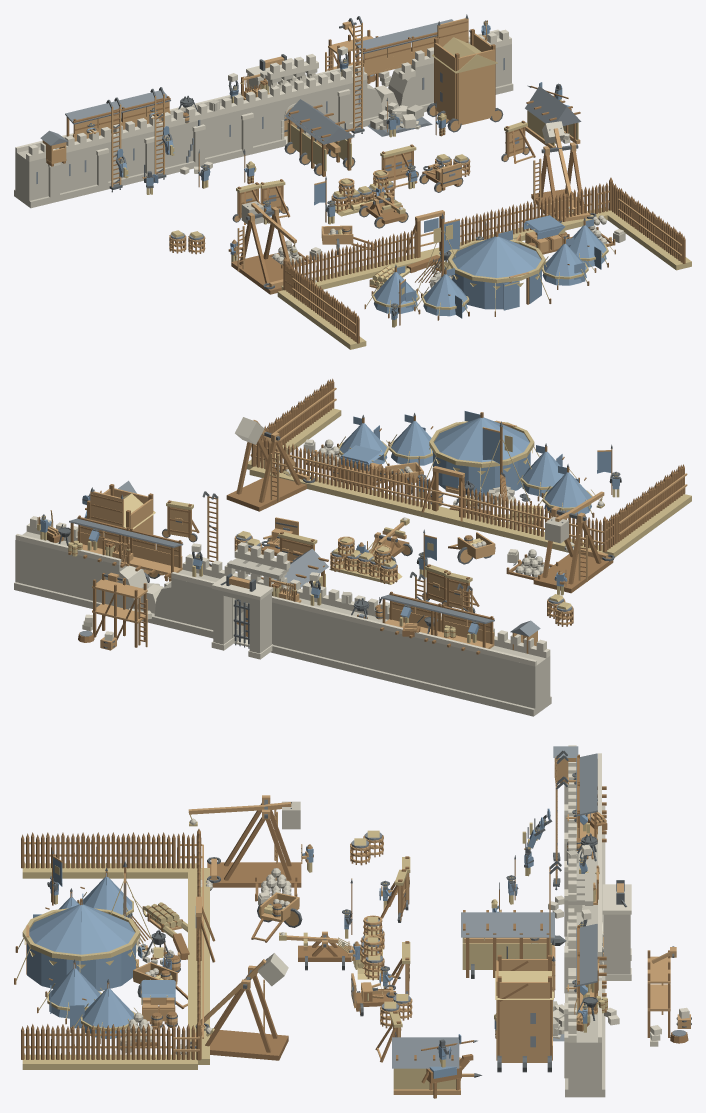
File: castle-639472aa-starter-scene.glb
The picture shows the model from 3 angles, top to bottom: view 1: azimuth 30°, elevation 25°; view 2: azimuth 150°, elevation 25°; view 3: azimuth 270°, elevation 25°; orthographic projection. The views are drawn at different scales.
Parts seen in each view (by area): view 1: 065-siege-command-pavilion/0, 030-siege-tower/1, 000-assault-wall-4m/0, 003-assault-wall-cracked/0, 004-assault-wall-4m/0, 044-counterweight-trebuchet/4, 001-assault-wall-4m/0, 002-assault-wall-4m/0, 006-assault-wall-4m/0, 029-siege-ram-penthouse/5, 045-counterweight-trebuchet-armed/4, 007-assault-wall-breached/0 (+46 smaller); view 2: 065-siege-command-pavilion/0, 000-assault-wall-4m/0, 003-assault-wall-cracked/0, 004-assault-wall-4m/0, 009-assault-wall-4m/0, 001-assault-wall-4m/0, 002-assault-wall-4m/0, 045-counterweight-trebuchet-armed/4, 006-assault-wall-4m/0, 010-portcullis-winched/0, 044-counterweight-trebuchet/4, 008-assault-wall-4m/0 (+49 smaller); view 3: 065-siege-command-pavilion/0, 030-siege-tower/1, 044-counterweight-trebuchet/4, 045-counterweight-trebuchet-armed/4, 009-assault-wall-4m/0, 029-siege-ram-penthouse/5, 057-bore-shelter/2, 010-portcullis-winched/0, 065-siege-command-pavilion/5, 029-siege-ram-penthouse/4, 088-camp-palisade-straight/1, 093-camp-palisade-straight/1 (+43 smaller).
Boxes of the visible parts, x1,y1,x2,y2 form: 065-siege-command-pavilion/0: [451, 230, 541, 309]; 030-siege-tower/1: [434, 33, 494, 124]; 000-assault-wall-4m/0: [14, 147, 78, 208]; 003-assault-wall-cracked/0: [171, 99, 223, 172]; 004-assault-wall-4m/0: [220, 103, 271, 160]; 044-counterweight-trebuchet/4: [231, 214, 291, 294]; 001-assault-wall-4m/0: [77, 138, 127, 196]; 002-assault-wall-4m/0: [126, 126, 175, 184]; 006-assault-wall-4m/0: [316, 71, 368, 129]; 029-siege-ram-penthouse/5: [285, 99, 354, 144]; 045-counterweight-trebuchet-armed/4: [531, 150, 587, 217]; 007-assault-wall-breached/0: [367, 67, 415, 124]; 065-siege-command-pavilion/0: [433, 411, 530, 495]; 000-assault-wall-4m/0: [481, 645, 551, 716]; 003-assault-wall-cracked/0: [325, 591, 387, 678]; 004-assault-wall-4m/0: [274, 598, 337, 665]; 009-assault-wall-4m/0: [14, 531, 69, 602]; 001-assault-wall-4m/0: [429, 641, 483, 703]; 002-assault-wall-4m/0: [377, 628, 431, 691]; 045-counterweight-trebuchet-armed/4: [226, 438, 306, 511]; 006-assault-wall-4m/0: [170, 569, 219, 638]; 010-portcullis-winched/0: [213, 589, 271, 653]; 044-counterweight-trebuchet/4: [533, 514, 613, 593]; 008-assault-wall-4m/0: [66, 552, 126, 608]; 065-siege-command-pavilion/0: [27, 902, 135, 991]; 030-siege-tower/1: [496, 959, 552, 1062]; 044-counterweight-trebuchet/4: [207, 803, 301, 887]; 045-counterweight-trebuchet-armed/4: [205, 975, 288, 1060]; 009-assault-wall-4m/0: [564, 1014, 605, 1097]; 029-siege-ram-penthouse/5: [461, 912, 554, 937]; 057-bore-shelter/2: [392, 1037, 459, 1068]; 010-portcullis-winched/0: [603, 914, 630, 974]; 065-siege-command-pavilion/5: [16, 908, 147, 980]; 029-siege-ram-penthouse/4: [462, 938, 552, 969]; 088-camp-palisade-straight/1: [121, 832, 175, 868]; 093-camp-palisade-straight/1: [21, 1024, 74, 1059].
Bounding box in the file's own units: 40.25 × 9.12 × 40.38.
